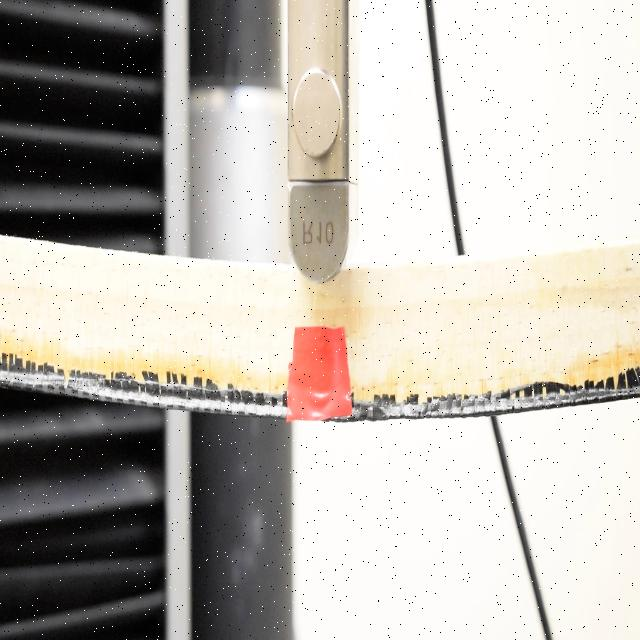wood: (2, 242, 640, 426)
